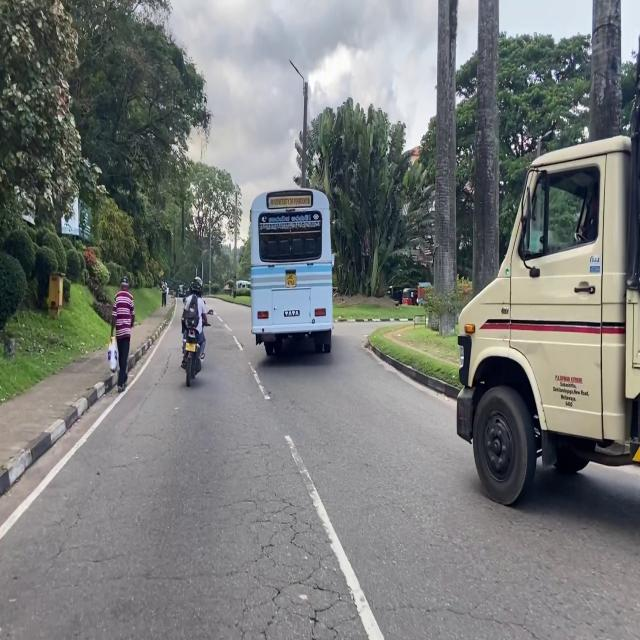bus: (250, 188, 333, 355)
motorcycle: (181, 327, 201, 387)
person: (111, 277, 135, 391), (182, 277, 207, 367), (161, 277, 168, 306)
three wheeler: (402, 288, 417, 305)
truck: (457, 103, 640, 504)
